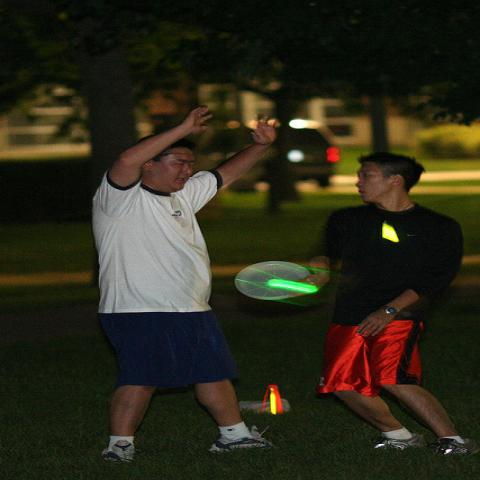car: (181, 120, 335, 188)
